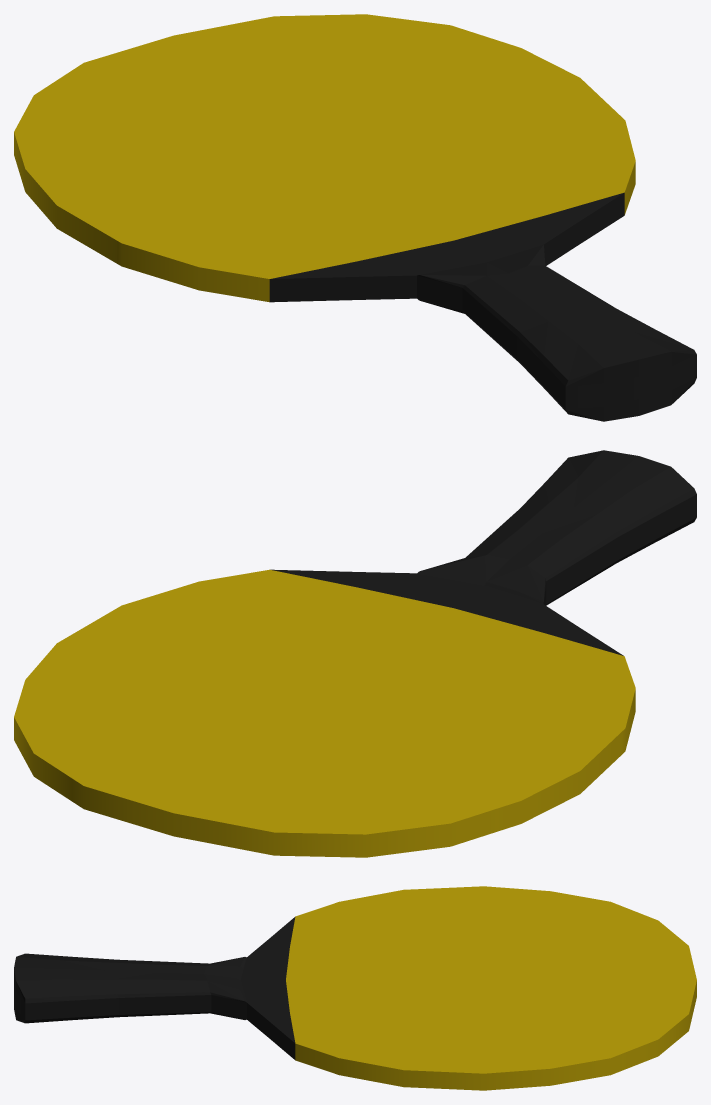
Rendered from pingPongRacket.FBX.
3 views of the same model, one above another, from view 1: azimuth 30°, elevation 25°; view 2: azimuth 150°, elevation 25°; view 3: azimuth 270°, elevation 25° (orthographic). The views are drawn at different scales.
Parts seen in each view (by area): view 1: Base1, pingpong_racket_Part_4, pingpong_racket_Part_8, pingpong_racket_Part_3, pingpong_racket_Part_5, pingpong_racket_Part_1; view 2: Base1, pingpong_racket_Part_4, pingpong_racket_Part_8, pingpong_racket_Part_5, pingpong_racket_Part_3, pingpong_racket_Part_1; view 3: Base1, pingpong_racket_Part_8, pingpong_racket_Part_4, pingpong_racket_Part_3, pingpong_racket_Part_5, pingpong_racket_Part_1.
Boxes of the visible parts, x1,y1,x2,y2 form: Base1: (135, 184, 696, 421); pingpong_racket_Part_4: (58, 15, 369, 185); pingpong_racket_Part_8: (315, 14, 635, 230); pingpong_racket_Part_3: (332, 54, 596, 208); pingpong_racket_Part_5: (14, 80, 169, 262); pingpong_racket_Part_1: (116, 233, 316, 302); Base1: (313, 450, 696, 739); pingpong_racket_Part_4: (61, 666, 480, 856); pingpong_racket_Part_8: (14, 569, 313, 793); pingpong_racket_Part_5: (321, 727, 621, 857); pingpong_racket_Part_3: (132, 572, 410, 745); pingpong_racket_Part_1: (598, 644, 635, 754); Base1: (14, 897, 473, 1047); pingpong_racket_Part_8: (281, 1016, 675, 1090); pingpong_racket_Part_4: (400, 924, 696, 1041); pingpong_racket_Part_3: (283, 977, 611, 1030); pingpong_racket_Part_5: (410, 886, 672, 932); pingpong_racket_Part_1: (284, 889, 413, 926).
Size of the model in its own units: 0.3296 by 0.0339 by 0.5076.
